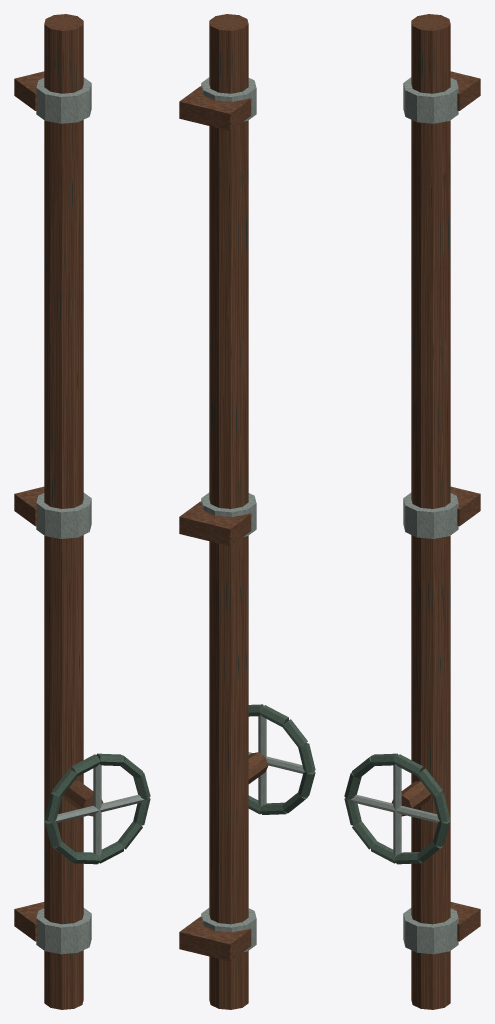
File: Pipe.obj
3 views of the same model, side by side, from view 1: azimuth 30°, elevation 25°; view 2: azimuth 150°, elevation 25°; view 3: azimuth 330°, elevation 25° (orthographic).
Visible parts, largest first — view 1: Pipe; view 2: Pipe; view 3: Pipe.
Part boxes in pixels (left/top/right/bottom): Pipe: left=14, top=14, right=150, bottom=1009; Pipe: left=179, top=14, right=315, bottom=1009; Pipe: left=344, top=14, right=480, bottom=1009.
Size of the model in its own units: 0.2834 by 2.57 by 0.289.
Materials: 3 (3 with a texture image).
